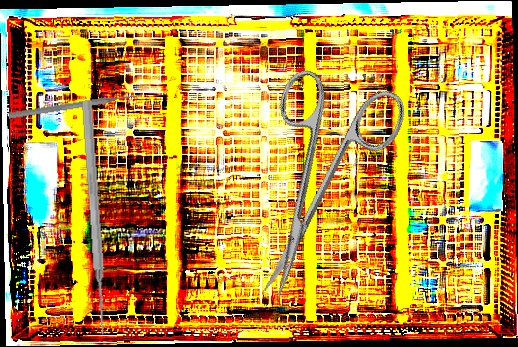Iris Scissors: (209, 54, 413, 318)
Pusher: (78, 100, 111, 335), (8, 90, 144, 121)
